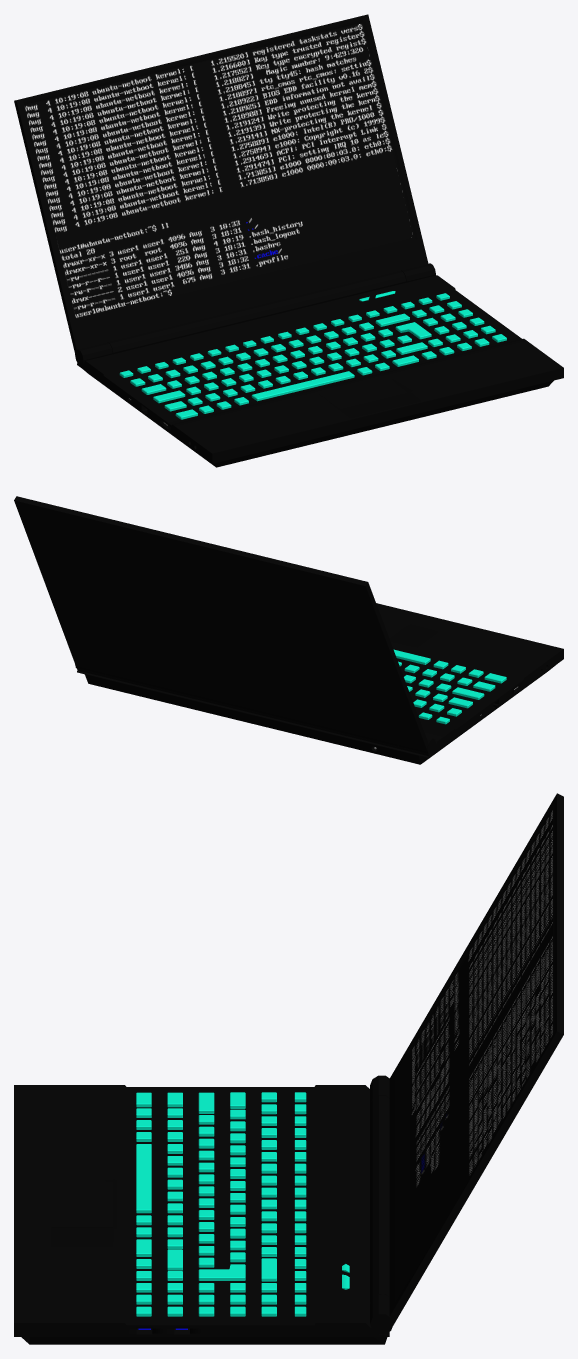
The model's file is hat.glb.
3 renders of one model, top to bottom at view 1: azimuth 30°, elevation 25°; view 2: azimuth 150°, elevation 25°; view 3: azimuth 270°, elevation 25°, orthographic. The views are drawn at different scales.
Parts seen in each view (by area): view 1: pCube134, pCube131, pCube4, pCylinder1, pCube133, pCube135, pCube117; view 2: pCube4, pCube131, pCube133, pCylinder1; view 3: pCube131, pCube134, pCube4, pCylinder1, pCube135, pCube133, pCube117, pCylinder3.
Boxes of the visible parts, <box> form: pCube134: <box>24,23,413,319</box>; pCube131: <box>77,275,563,463</box>; pCube4: <box>14,14,428,363</box>; pCylinder1: <box>107,270,406,354</box>; pCube133: <box>84,370,553,467</box>; pCube135: <box>318,377,408,409</box>; pCube117: <box>251,371,354,401</box>; pCube4: <box>14,496,429,756</box>; pCube131: <box>77,603,563,757</box>; pCube133: <box>85,665,555,764</box>; pCylinder1: <box>105,673,398,746</box>; pCube131: <box>14,1085,389,1336</box>; pCube134: <box>411,810,552,1274</box>; pCube4: <box>386,793,563,1334</box>; pCylinder1: <box>370,1095,389,1303</box>; pCube135: <box>51,1181,112,1227</box>; pCube133: <box>21,1337,387,1344</box>; pCube117: <box>136,1144,151,1213</box>; pCylinder3: <box>370,1294,393,1334</box>.
Size of the model in its own units: 3.31 by 2.09 by 3.22.
6 materials, 1 textured.
